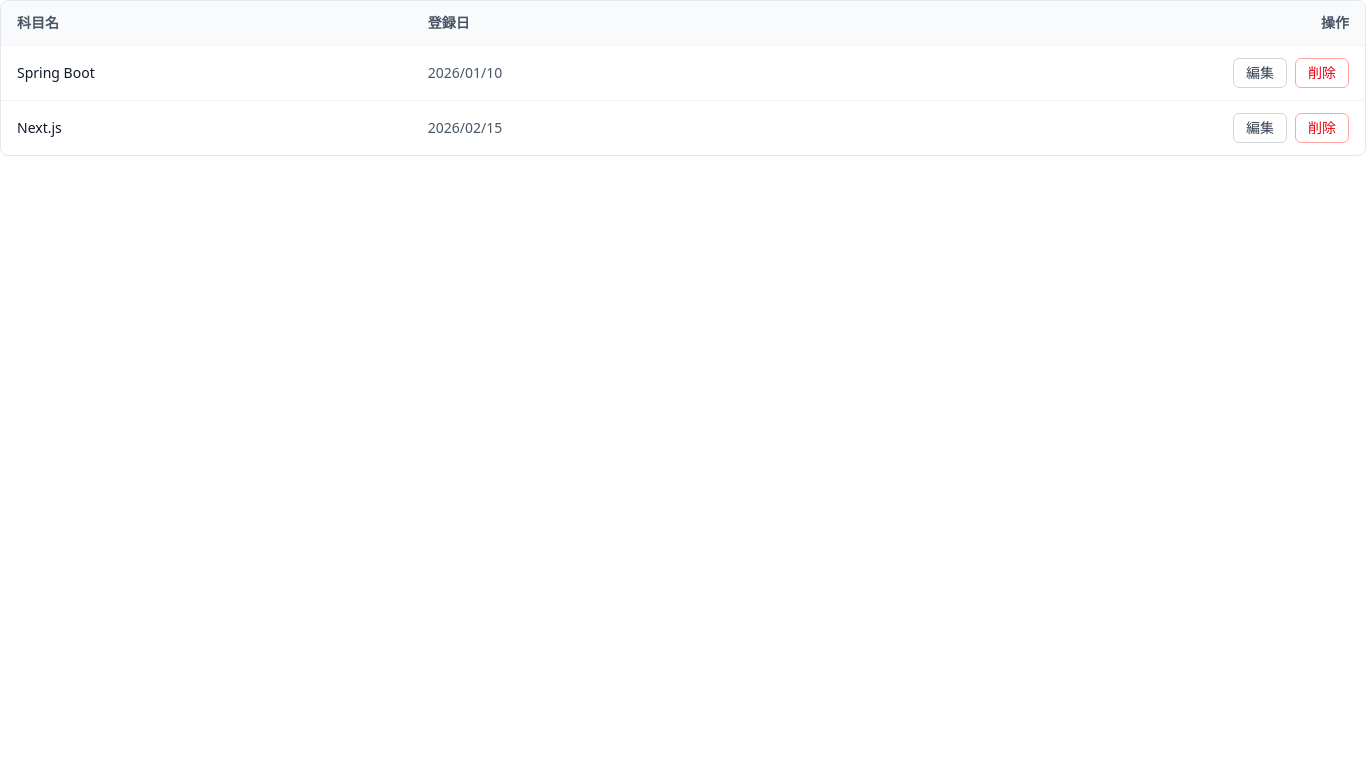
Test case: SubjectList › キャンセルすると削除されない
Click the button "削除" in the row of "Spring Boot" at (1322, 73), box [1295,58,1349,88]
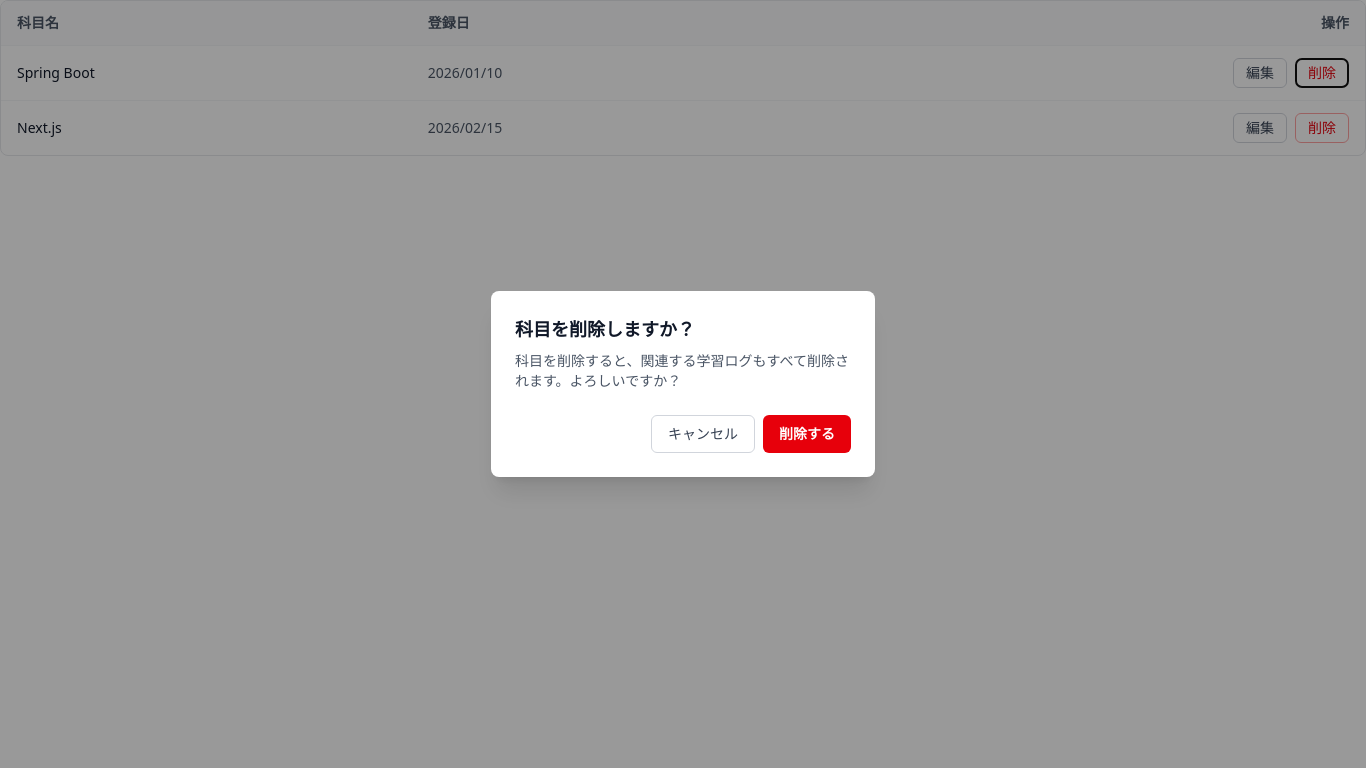
Click the button "キャンセル" at (703, 434), box [651,415,755,453]
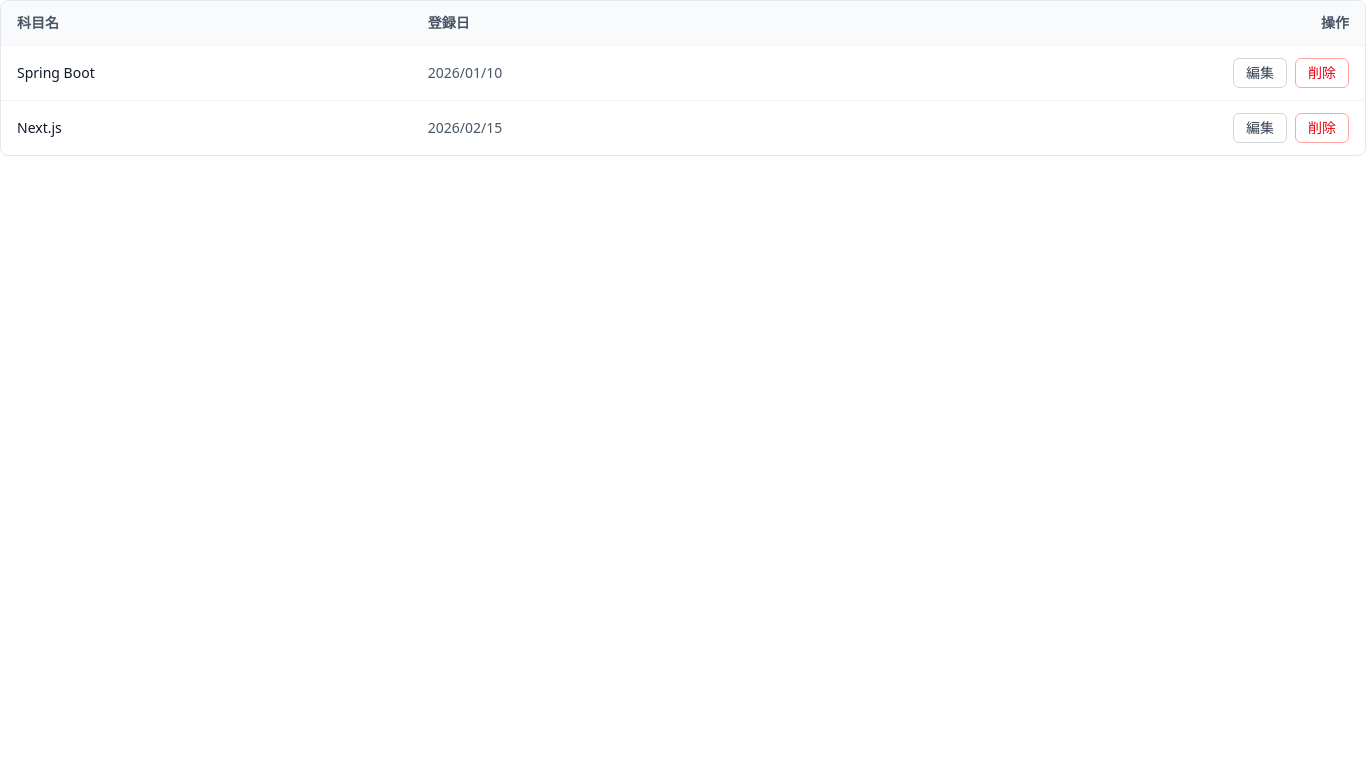
Expected: the text "Spring Boot" is shown, [1,46,412,100]
Expected: the dialog is gone
